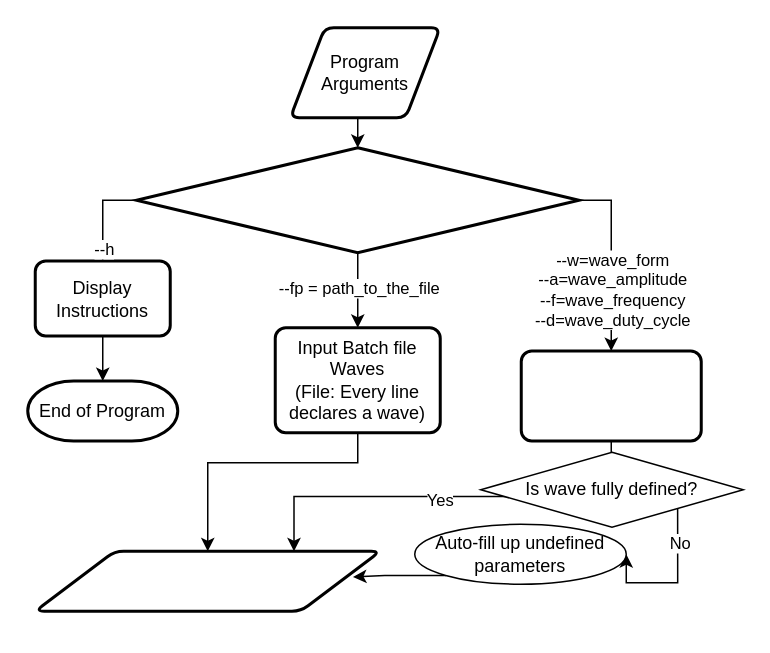
Image size: 770x653. Some labels were removed from this diagram. Here are the shapes that lost their labels. From the top down, the box of each, then its label:
(134, 146, 580, 254): Actions Based on Program Arguments
(519, 349, 702, 442): Initialise the Wave Based on the Parameters
(33, 549, 381, 612): Return Wave Count to Main
